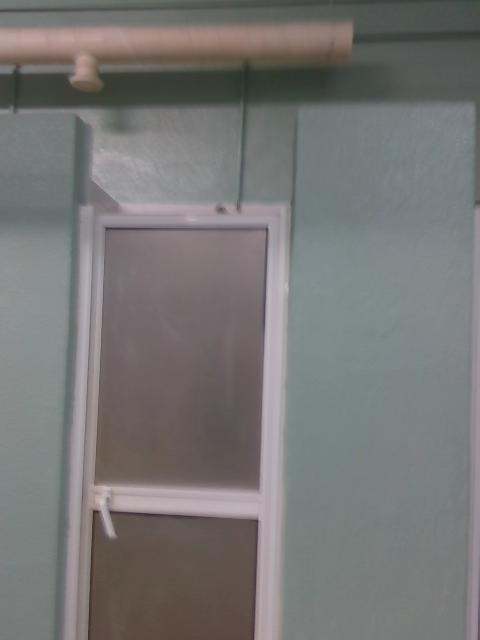door: (78, 206, 284, 640)
